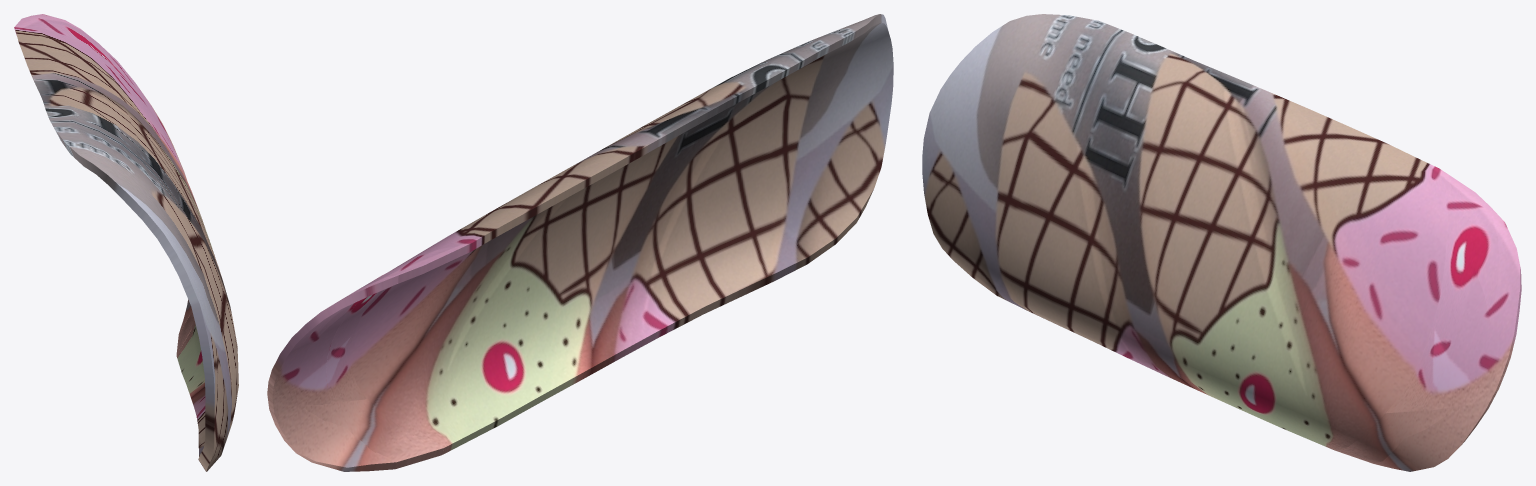
3 renders of one model, left to right at view 1: azimuth 30°, elevation 25°; view 2: azimuth 150°, elevation 25°; view 3: azimuth 270°, elevation 25°, orthographic. The views are drawn at different scales.
Visible parts, largest first — view 1: OBJ_45, OBJ_49, OBJ_47, OBJ_26, OBJ_48; view 2: OBJ_45, OBJ_50, OBJ_26, OBJ_47, OBJ_12, OBJ_48, OBJ_49; view 3: OBJ_45, OBJ_47, OBJ_12, OBJ_49, OBJ_50, OBJ_48, OBJ_26.
Boxes of the visible parts, x1,y1,x2,y2 form: OBJ_45: (14, 27, 238, 471); OBJ_49: (14, 15, 134, 85); OBJ_47: (33, 14, 185, 176); OBJ_26: (176, 309, 193, 354); OBJ_48: (107, 58, 179, 162); OBJ_45: (351, 14, 893, 454); OBJ_50: (267, 382, 396, 471); OBJ_26: (302, 398, 443, 468); OBJ_47: (268, 275, 398, 405); OBJ_12: (326, 291, 379, 402); OBJ_48: (301, 305, 355, 404); OBJ_49: (311, 243, 471, 344); OBJ_45: (922, 14, 1447, 450); OBJ_47: (1432, 207, 1521, 410); OBJ_12: (1386, 231, 1473, 413); OBJ_49: (1439, 168, 1499, 322); OBJ_50: (1374, 373, 1504, 471); OBJ_48: (1423, 268, 1490, 410); OBJ_26: (1335, 406, 1457, 463).
Bounding box in the file's own units: 209 × 217 × 358.
